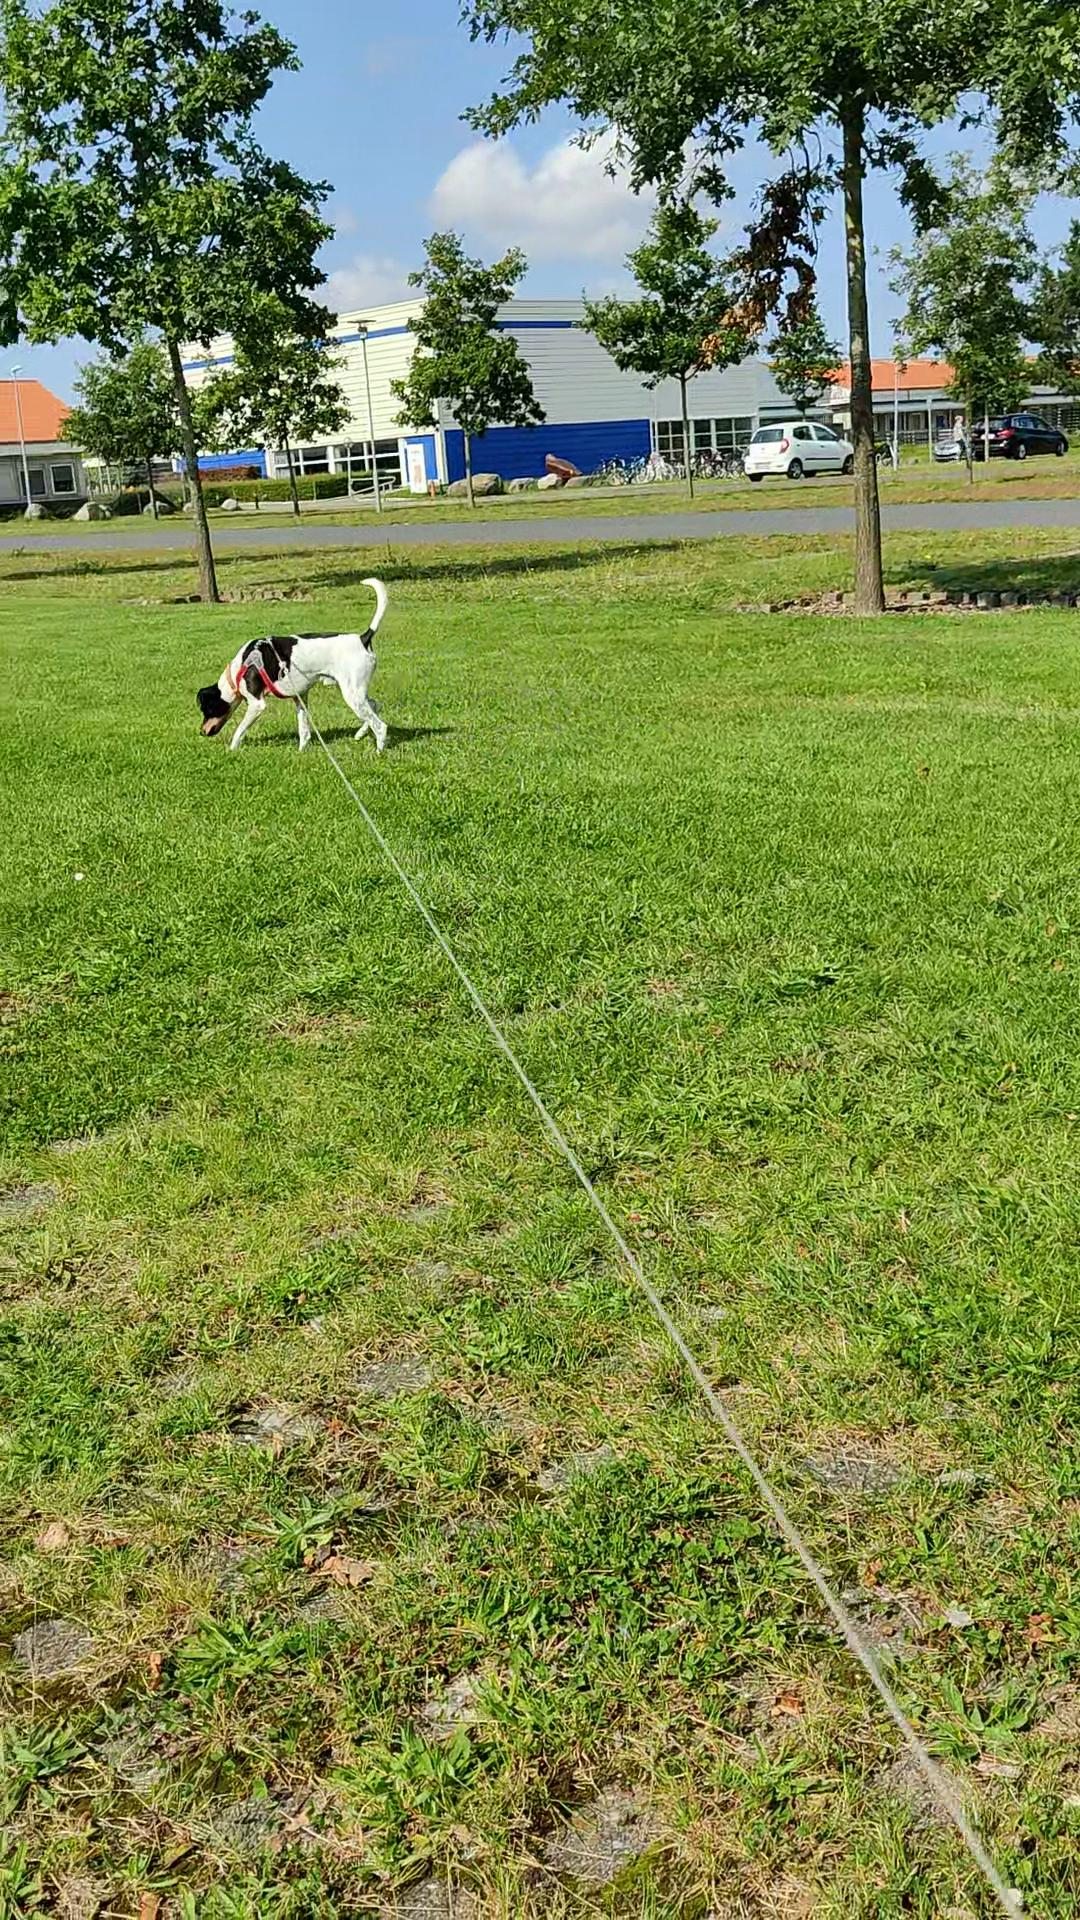Dog: (194, 574, 392, 752)
